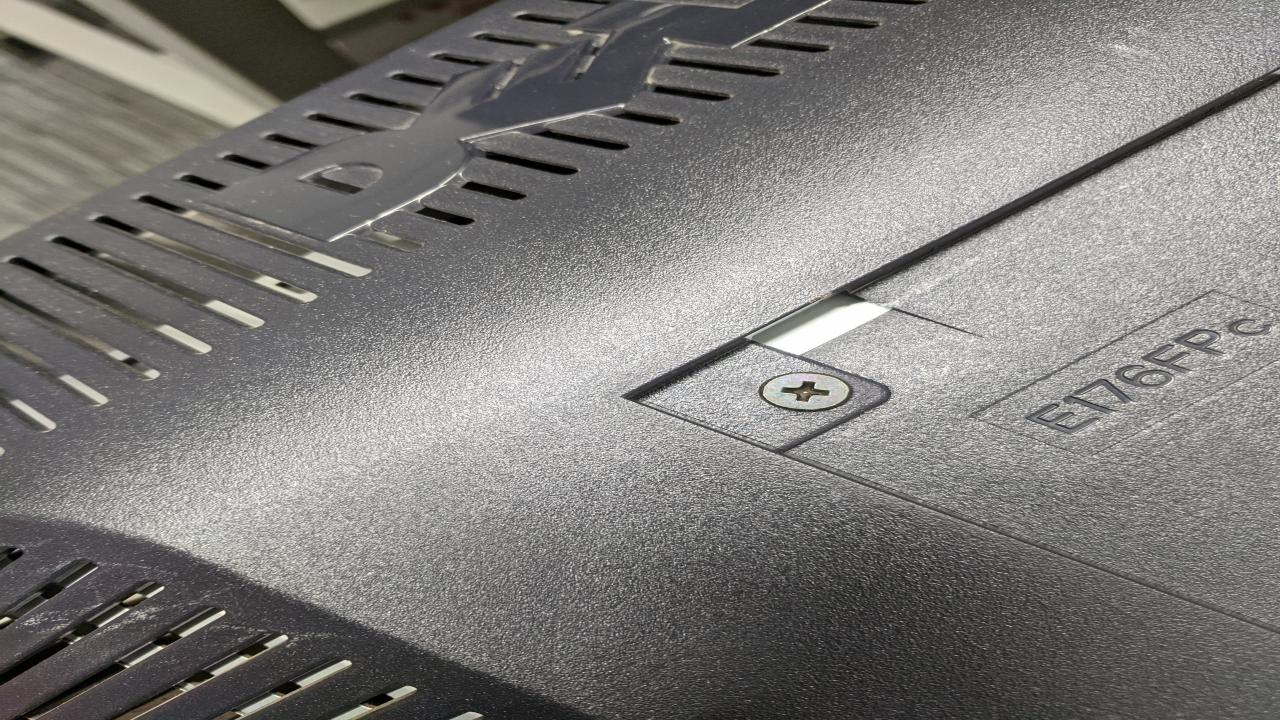CRS: (762, 370, 852, 412)
